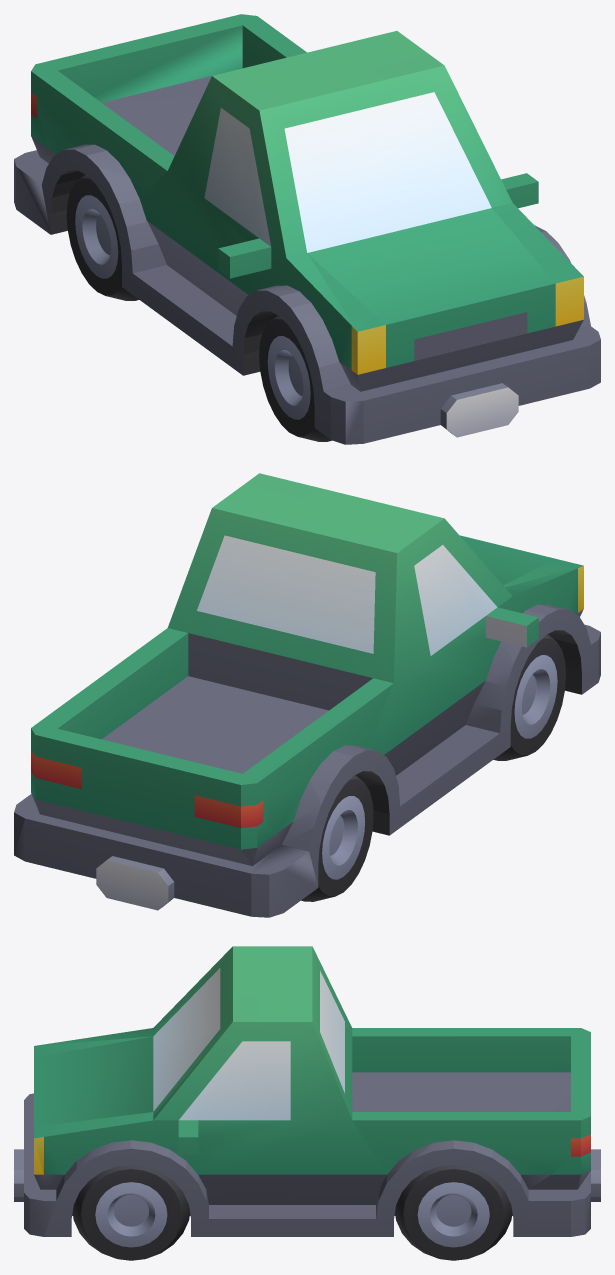
The model's file is truck.glb.
3 renders of one model, top to bottom at view 1: azimuth 30°, elevation 25°; view 2: azimuth 150°, elevation 25°; view 3: azimuth 270°, elevation 25°, orthographic. The views are drawn at different scales.
Parts seen in each view (by area): view 1: body, wheel-front-right, wheel-back-right; view 2: body, wheel-front-right, wheel-back-right; view 3: body, wheel-back-left, wheel-front-left.
Part boxes in pixels (bbox=[...]): body: bbox=[14, 14, 600, 444]; wheel-front-right: bbox=[259, 315, 331, 441]; wheel-back-right: bbox=[66, 174, 138, 300]; body: bbox=[14, 473, 600, 917]; wheel-front-right: bbox=[493, 634, 566, 760]; wheel-back-right: bbox=[301, 775, 373, 901]; body: bbox=[14, 946, 600, 1236]; wheel-back-left: bbox=[395, 1165, 512, 1260]; wheel-front-left: bbox=[72, 1165, 189, 1260].
Bounding box in the file's own units: 1.5 × 1.3 × 2.95.
Materials: 5 (5 with a texture image).
